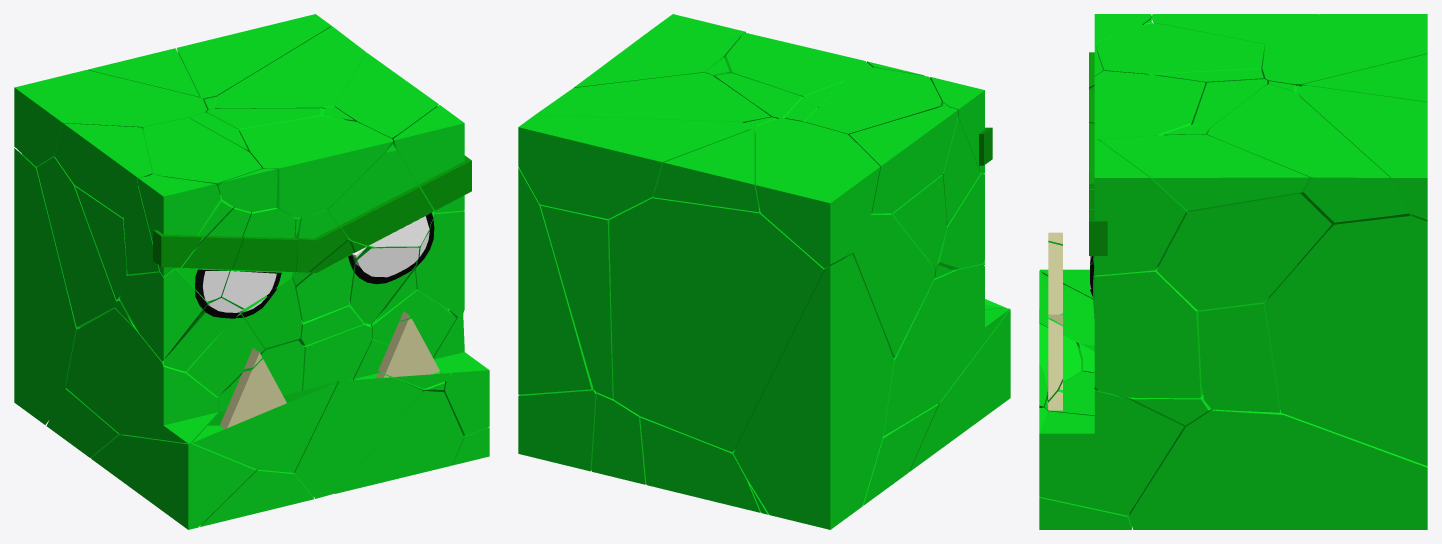
Rendered from Goblin_01Broken.fbx.
3 renders of one model, left to right at view 1: azimuth 30°, elevation 25°; view 2: azimuth 150°, elevation 25°; view 3: azimuth 270°, elevation 25°, orthographic. The views are drawn at different scales.
Parts seen in each view (by area): view 1: Cube_cell.045, Cube_cell.058, Cube_cell.010, Cube_cell.007, Cube_cell.054, Cube_cell.003, Cube_cell.069, Cube_cell.077, Cube_cell.021, Cube_cell.049, Cube_cell.008, Cube_cell.062 (+31 smaller); view 2: Cube_cell.048, Cube_cell.058, Cube_cell.072, Cube_cell.007, Cube_cell.045, Cube_cell.025, Cube_cell.028, Cube_cell.077, Cube_cell.062, Cube_cell.049, Cube_cell.034, Cube_cell.035 (+14 smaller); view 3: Cube_cell.025, Cube_cell.039, Cube_cell.057, Cube_cell.077, Cube_cell.059, Cube_cell.055, Cube_cell.024, Cube_cell.007, Cube_cell.001, Cube_cell.072, Cube_cell.047, Cube_cell.065 (+13 smaller).
Part boxes in pixels (bbox=[...]): Cube_cell.045: bbox=[65, 308, 226, 443]; Cube_cell.058: bbox=[14, 148, 80, 424]; Cube_cell.010: bbox=[192, 340, 337, 472]; Cube_cell.007: bbox=[14, 70, 206, 167]; Cube_cell.054: bbox=[239, 116, 392, 217]; Cube_cell.003: bbox=[91, 434, 256, 529]; Cube_cell.069: bbox=[294, 372, 422, 498]; Cube_cell.077: bbox=[214, 26, 366, 108]; Cube_cell.021: bbox=[326, 144, 434, 248]; Cube_cell.049: bbox=[54, 123, 159, 217]; Cube_cell.008: bbox=[335, 391, 463, 493]; Cube_cell.062: bbox=[37, 157, 120, 327]; Cube_cell.048: bbox=[609, 197, 828, 452]; Cube_cell.058: bbox=[733, 254, 893, 529]; Cube_cell.072: bbox=[518, 115, 755, 218]; Cube_cell.007: bbox=[755, 118, 880, 268]; Cube_cell.045: bbox=[883, 264, 1009, 436]; Cube_cell.025: bbox=[518, 167, 592, 394]; Cube_cell.028: bbox=[540, 117, 776, 398]; Cube_cell.077: bbox=[535, 72, 770, 122]; Cube_cell.062: bbox=[846, 213, 935, 357]; Cube_cell.049: bbox=[849, 106, 957, 213]; Cube_cell.034: bbox=[640, 416, 760, 512]; Cube_cell.035: bbox=[653, 128, 759, 212]; Cube_cell.025: bbox=[1265, 216, 1427, 465]; Cube_cell.039: bbox=[1129, 409, 1427, 529]; Cube_cell.057: bbox=[1156, 193, 1331, 310]; Cube_cell.077: bbox=[1206, 84, 1410, 264]; Cube_cell.059: bbox=[1090, 256, 1202, 398]; Cube_cell.055: bbox=[1039, 390, 1183, 515]; Cube_cell.024: bbox=[1101, 134, 1309, 212]; Cube_cell.007: bbox=[1262, 14, 1427, 86]; Cube_cell.001: bbox=[1089, 139, 1186, 275]; Cube_cell.072: bbox=[1296, 85, 1427, 221]; Cube_cell.047: bbox=[1198, 297, 1280, 412]; Cube_cell.065: bbox=[1095, 23, 1264, 75].
Size of the model in its own units: 61.87 by 60 by 60.
